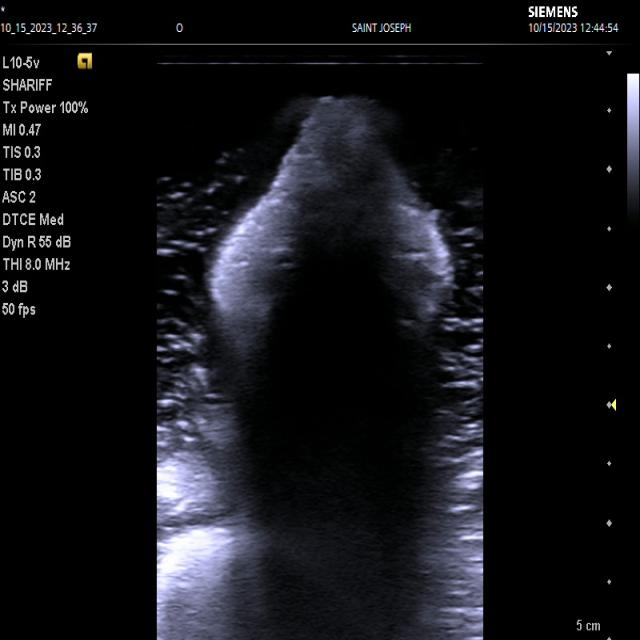tissue: (158, 96, 483, 640)
